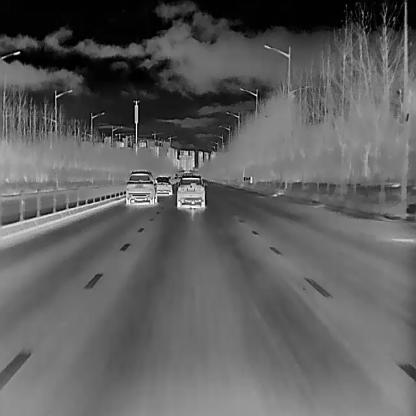car: (125, 170, 157, 205), (176, 174, 207, 208), (154, 175, 172, 195)
